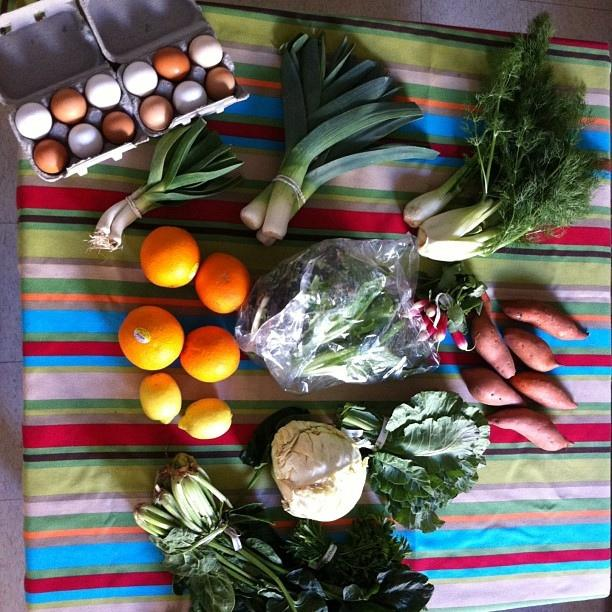lemon: (177, 398, 233, 440), (140, 373, 182, 425)
orange: (118, 306, 184, 371), (140, 226, 200, 288), (195, 252, 252, 314), (180, 326, 240, 382)
potato: (486, 408, 575, 451), (498, 301, 588, 341), (466, 307, 516, 379), (461, 366, 530, 410), (507, 371, 579, 410), (504, 326, 564, 372), (482, 292, 492, 313)
radish: (451, 330, 480, 352), (418, 320, 436, 342), (436, 312, 448, 342), (416, 312, 429, 339), (410, 300, 432, 311), (425, 304, 436, 317), (432, 332, 438, 342)
